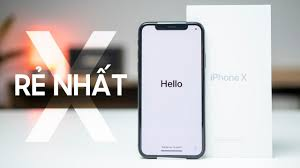iphone: (136, 20, 205, 159)
iphone10: (137, 20, 206, 159)
